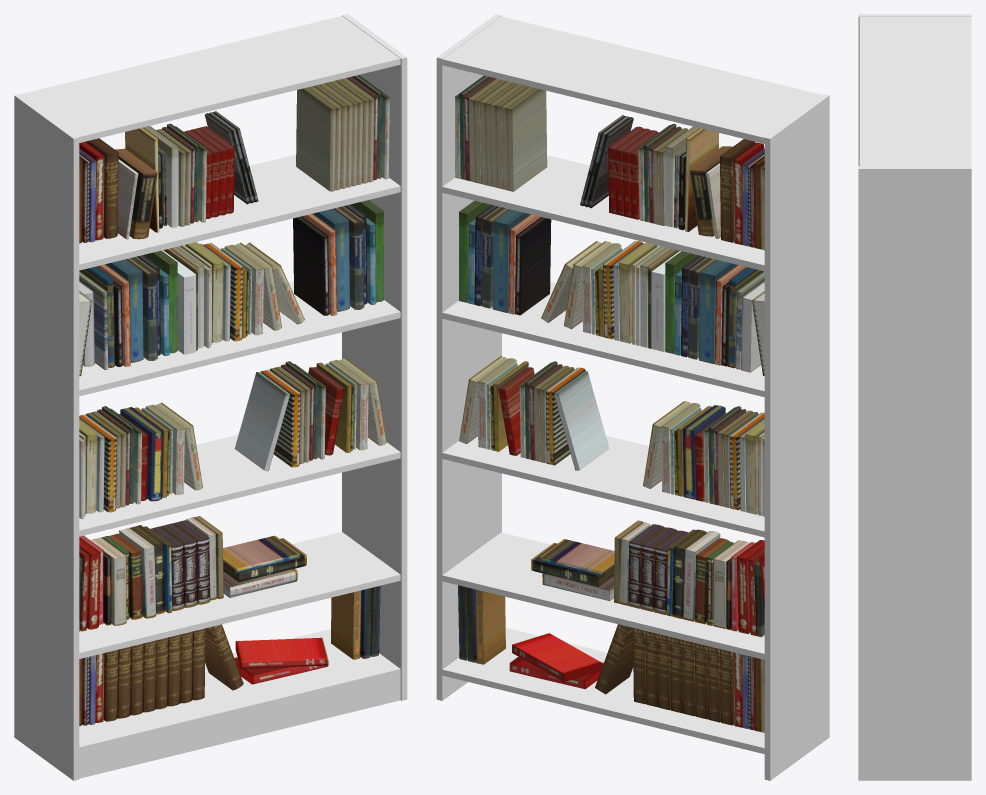
File: bookshelf2.FBX
3 views of the same model, side by side, from view 1: azimuth 30°, elevation 25°; view 2: azimuth 150°, elevation 25°; view 3: azimuth 270°, elevation 25° (orthographic). The views are drawn at different scales.
Parts seen in each view (by area): view 1: bookshelf; view 2: bookshelf; view 3: bookshelf.
Boxes of the visible parts, x1,y1,x2,y2 form: bookshelf: (14, 14, 407, 780); bookshelf: (436, 14, 829, 780); bookshelf: (858, 14, 971, 780).
Size of the model in its own units: 43.4 by 79.7 by 13.39.
